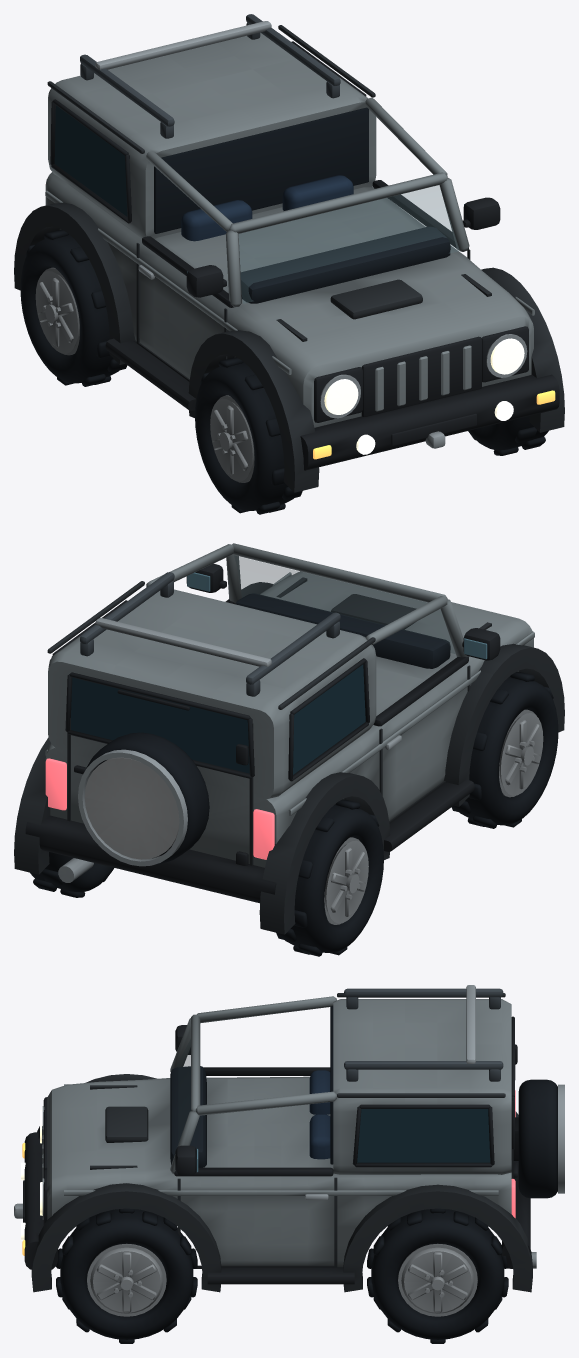
The model's file is silver-surfer.glb.
3 views of the same model, one above another, from view 1: azimuth 30°, elevation 25°; view 2: azimuth 150°, elevation 25°; view 3: azimuth 270°, elevation 25° (orthographic). The views are drawn at different scales.
Visible parts, largest first — view 1: hull, greenhouse, fender-flares, bulkhead, windscreen, front-bumper, tire-front-right, tire-rear-right, dashboard, windscreen-frame, grille-frame, windows (+20 smaller); view 2: greenhouse, hull, fender-flares, windows, tire-rear-right, tire-front-right, spare-cover, windscreen, rear-bumper, windscreen-frame, dashboard, window-rubber (+18 smaller); view 3: hull, greenhouse, fender-flares, tire-front-left, tire-rear-left, windows, windscreen-frame, spare-tire, rim-front-left, rim-rear-left, roof-rails, window-rubber (+15 smaller).
Part boxes in pixels (x1,y1,x2,y2): hull: [45, 172, 533, 427]; greenhouse: [48, 32, 376, 238]; fender-flares: [14, 202, 564, 492]; bulkhead: [154, 107, 368, 233]; windscreen: [239, 185, 459, 303]; front-bumper: [300, 374, 559, 470]; tire-front-right: [195, 357, 302, 514]; tire-rear-right: [20, 229, 127, 386]; dashboard: [240, 226, 450, 303]; windscreen-frame: [146, 97, 469, 307]; grille-frame: [361, 336, 481, 416]; windows: [54, 105, 127, 216]; greenhouse: [48, 589, 376, 799]; hull: [45, 571, 533, 867]; fender-flares: [14, 582, 564, 934]; windows: [71, 664, 365, 774]; tire-rear-right: [276, 799, 383, 956]; tire-front-right: [451, 671, 558, 828]; spare-cover: [84, 757, 179, 859]; windscreen: [234, 556, 455, 653]; rear-bumper: [25, 815, 276, 903]; windscreen-frame: [146, 543, 469, 657]; dashboard: [235, 593, 450, 668]; window-rubber: [51, 600, 369, 781]; hull: [47, 1076, 511, 1267]; greenhouse: [333, 999, 511, 1174]; fender-flares: [31, 1074, 532, 1292]; tire-front-left: [56, 1208, 197, 1343]; tire-rear-left: [367, 1208, 508, 1343]; windows: [357, 1109, 490, 1162]; windscreen-frame: [170, 996, 336, 1173]; spare-tire: [518, 1079, 557, 1198]; rim-front-left: [87, 1243, 166, 1316]; rim-rear-left: [398, 1243, 477, 1316]; roof-rails: [344, 988, 503, 1081]; window-rubber: [352, 1016, 514, 1167].
Size of the model in its own units: 2.66 by 2.43 by 4.64.
